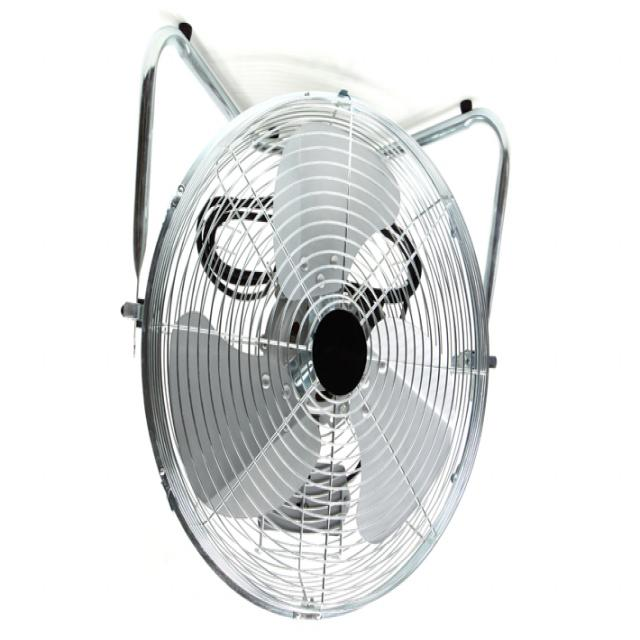fan: (120, 16, 516, 616)
